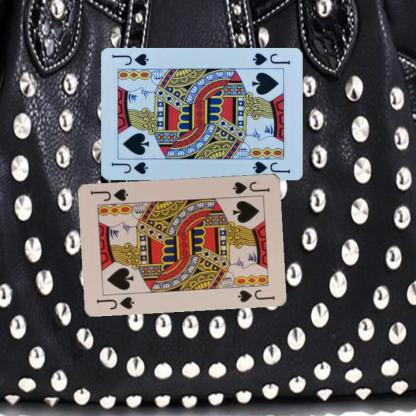Js: (94, 293, 136, 311), (231, 178, 271, 196), (250, 50, 291, 66), (109, 160, 149, 176)
